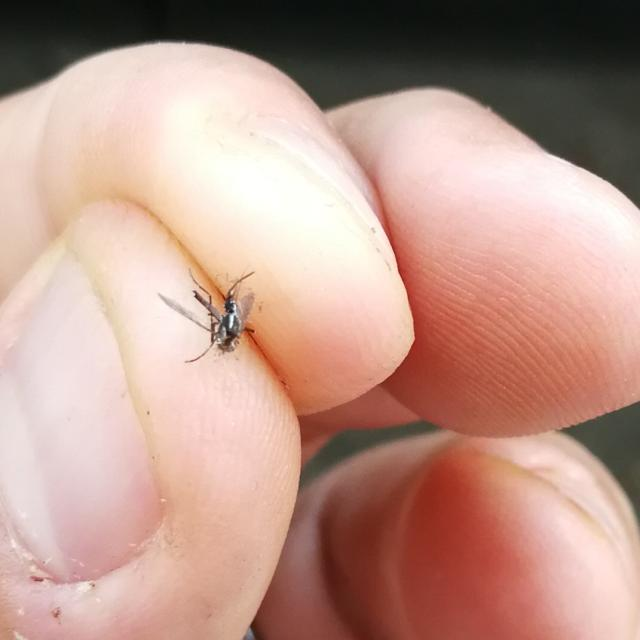albopictus: (150, 249, 269, 369)
